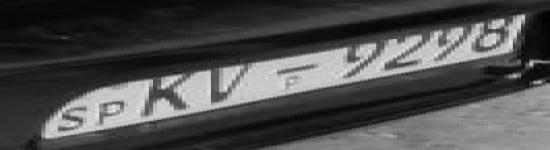-: (273, 62, 321, 78)
2: (382, 29, 434, 71)
8: (475, 13, 518, 53)
9: (346, 38, 388, 78), (436, 20, 475, 62)
K: (137, 69, 193, 117)
P: (97, 99, 128, 127)
S: (50, 105, 92, 132)
V: (207, 61, 255, 104)
